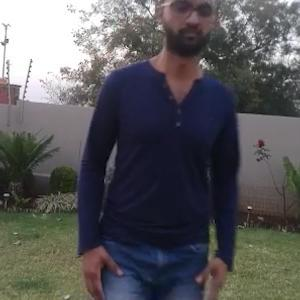follow: (84, 0, 219, 299)
